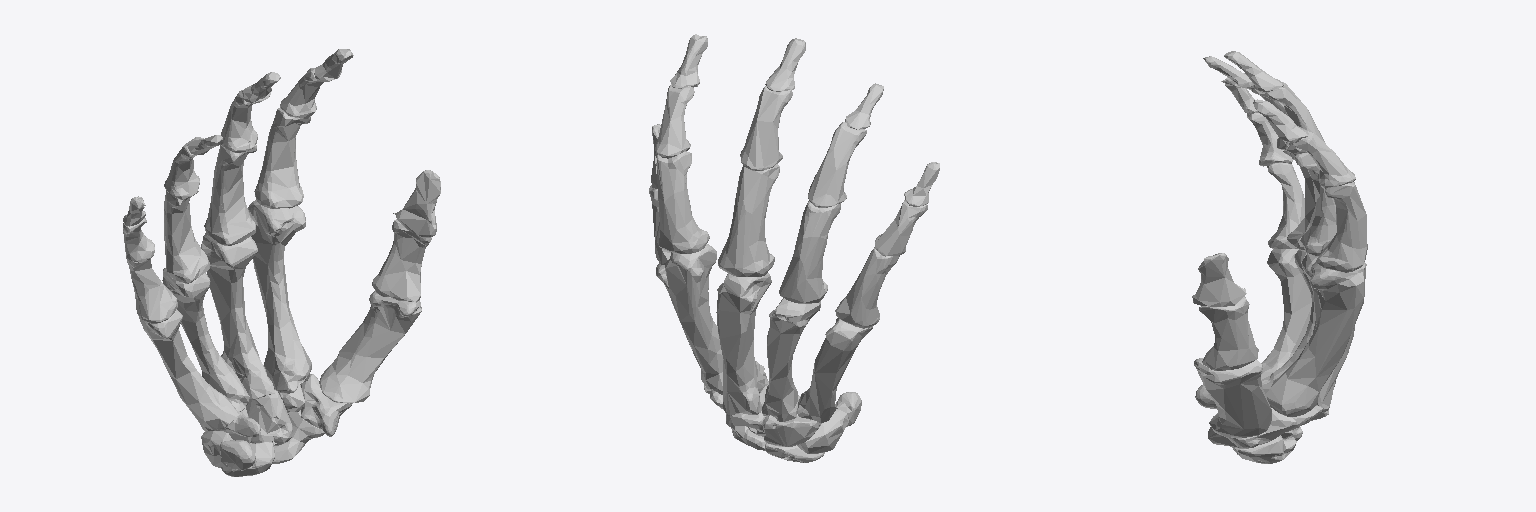
File: manoph.obj
3 renders of one model, left to right at view 1: azimuth 30°, elevation 25°; view 2: azimuth 150°, elevation 25°; view 3: azimuth 270°, elevation 25°, orthographic.
Visible parts, largest first — view 1: Object_2; view 2: Object_2; view 3: Object_2.
Part boxes in pixels (x1,y1,x2,y2): Object_2: (123, 49, 440, 476); Object_2: (649, 34, 939, 462); Object_2: (1192, 51, 1367, 463).
Size of the model in its own units: 47.5 by 61.71 by 24.31.